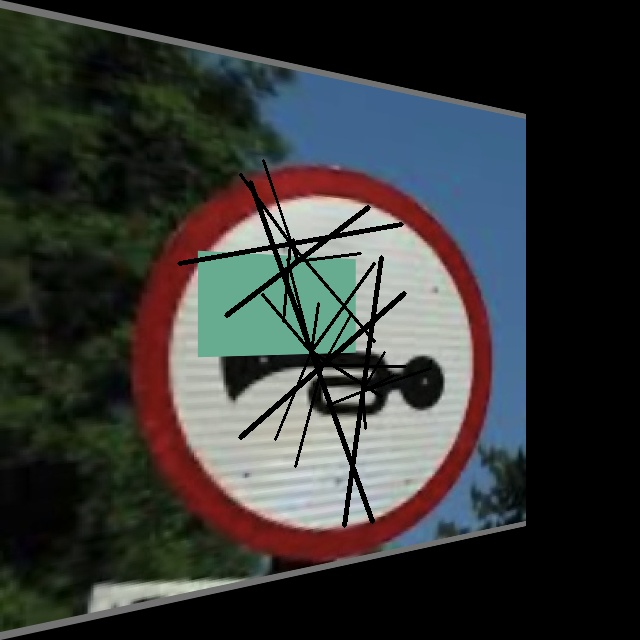Compulsory_Sound_Horn: (145, 152, 483, 563)
